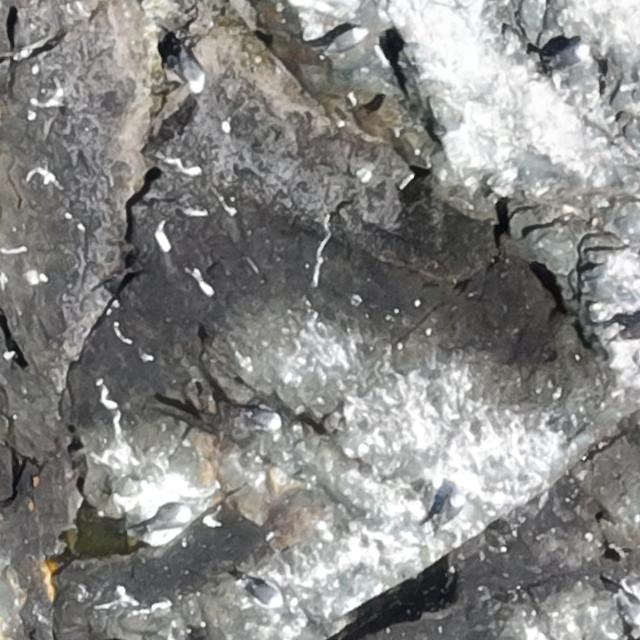umineko: (175, 43, 212, 92), (430, 494, 466, 540), (147, 503, 194, 537), (246, 408, 282, 432), (546, 44, 584, 66), (327, 28, 362, 50), (249, 582, 279, 604)
